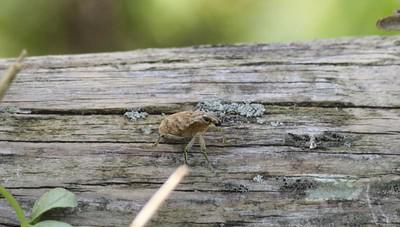weevils: (144, 98, 236, 173)
